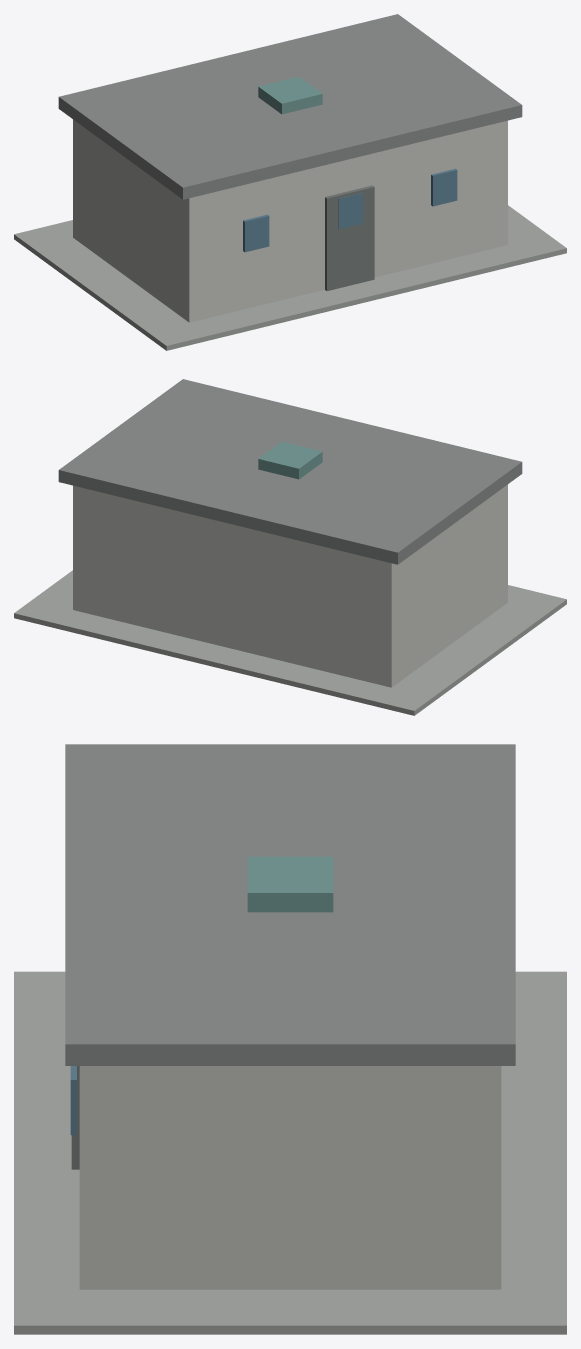
Rendered from polyclinic.glb.
The picture shows the model from 3 angles, top to bottom: view 1: azimuth 30°, elevation 25°; view 2: azimuth 150°, elevation 25°; view 3: azimuth 270°, elevation 25°; orthographic projection. The views are drawn at different scales.
Visible parts, largest first — view 1: polyclinic; view 2: polyclinic; view 3: polyclinic.
Part boxes in pixels (x1,y1,x2,y2): polyclinic: (14, 14, 566, 350); polyclinic: (14, 379, 566, 715); polyclinic: (14, 744, 566, 1334).
Size of the model in its own units: 5.88 by 2.19 by 3.88.
